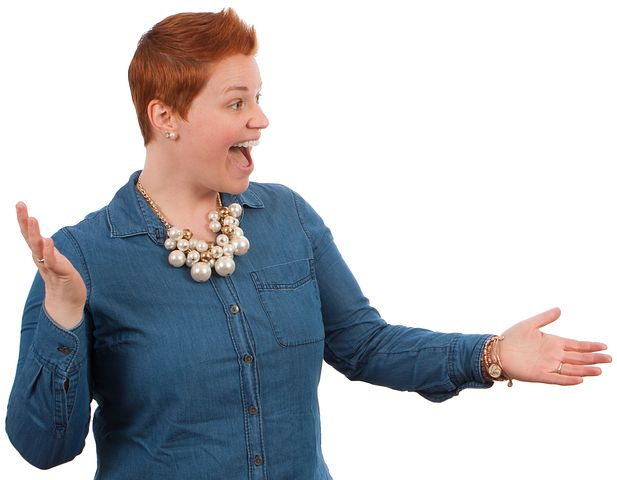palmhand: (498, 318, 612, 390)
